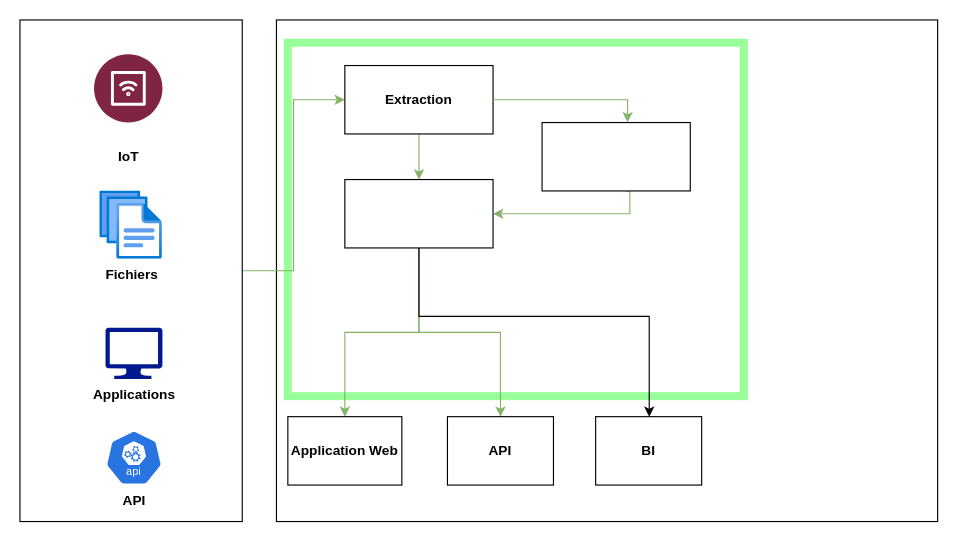
The diagram is 958 pixels wide and 542 high, and some of its shapes have lost their labels. The box of each missing label's shape, as (x1, y1, x2, y2) in pixels:
Data Engineering: (283, 38, 747, 400)
Sources de données: (19, 19, 242, 522)
Stockage: (344, 178, 493, 248)
Traitement: (541, 121, 690, 191)
